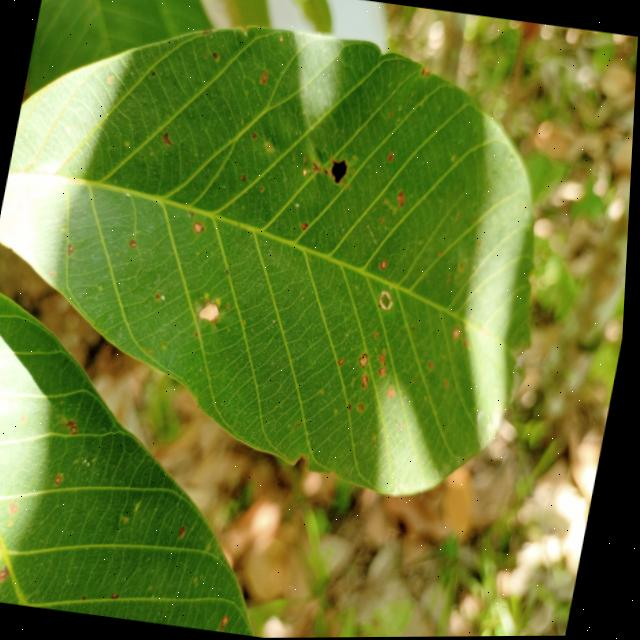Colletotrichum: (380, 290, 398, 312), (361, 354, 374, 369), (4, 567, 16, 582), (194, 222, 207, 234), (390, 387, 401, 400), (364, 376, 374, 389), (381, 368, 391, 379), (303, 223, 311, 232), (60, 476, 68, 485), (118, 593, 127, 600), (132, 240, 139, 248), (16, 505, 23, 513), (341, 359, 348, 366), (253, 133, 259, 140), (244, 176, 249, 183)
